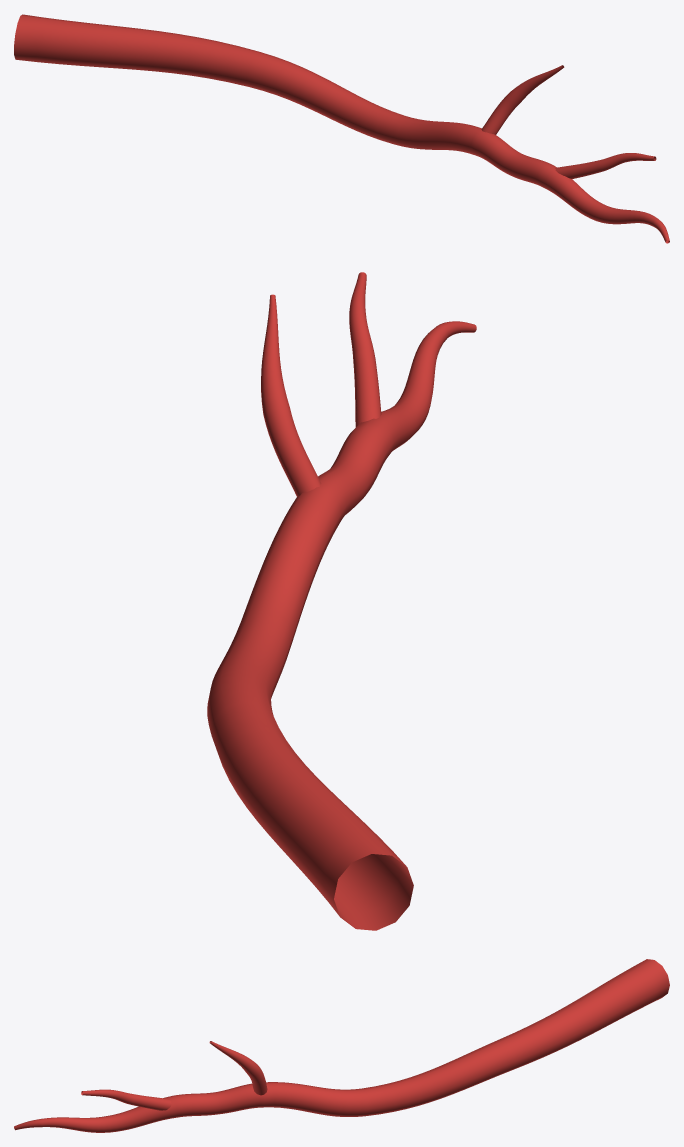
The picture shows the model from 3 angles, top to bottom: view 1: azimuth 30°, elevation 25°; view 2: azimuth 150°, elevation 25°; view 3: azimuth 270°, elevation 25°; orthographic projection. The views are drawn at different scales.
Parts seen in each view (by area): view 1: 左侧颞深后动脉; view 2: 左侧颞深后动脉; view 3: 左侧颞深后动脉.
Part boxes in pixels (bbox=[...]): 左侧颞深后动脉: bbox=[14, 14, 669, 243]; 左侧颞深后动脉: bbox=[207, 272, 476, 930]; 左侧颞深后动脉: bbox=[14, 959, 669, 1132].
Size of the model in its own units: 0.0372 by 0.0128 by 0.0691.
